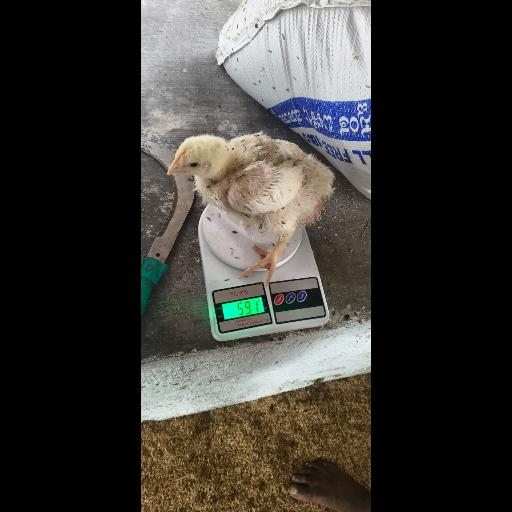chick: (168, 133, 334, 285)
